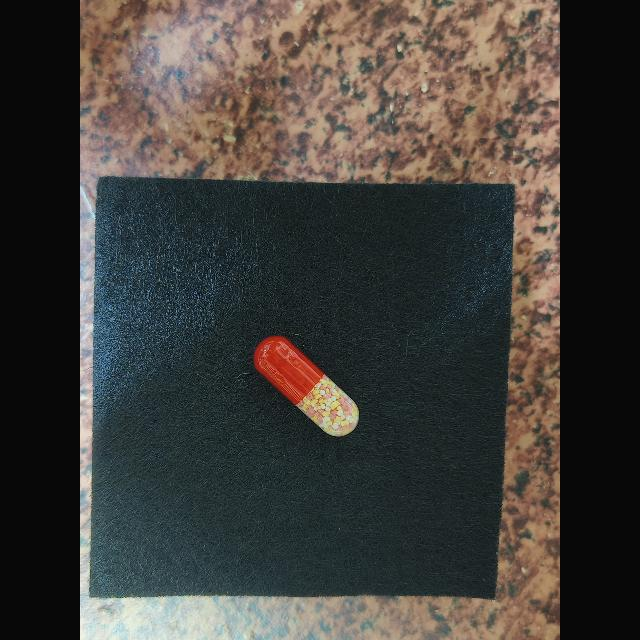Intact Capsule: (253, 336, 359, 436)
